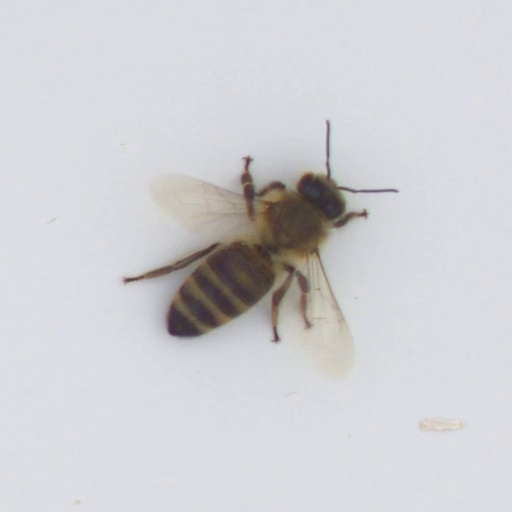Bee: (145, 157, 355, 357)
Thorax: (255, 188, 329, 254)
